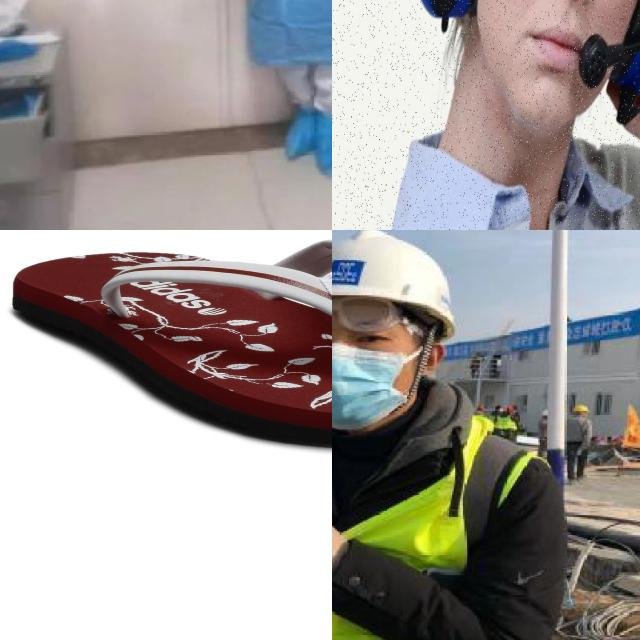Sandals: (10, 237, 332, 450)
face_mask: (332, 301, 407, 429)
face_nomask: (478, 0, 639, 140)
glasses: (332, 295, 408, 340)
head_helmet: (332, 230, 455, 329)
person: (332, 230, 581, 640), (200, 0, 332, 189)
shoes: (276, 113, 321, 164), (310, 111, 332, 180)
vest: (332, 398, 556, 640)
